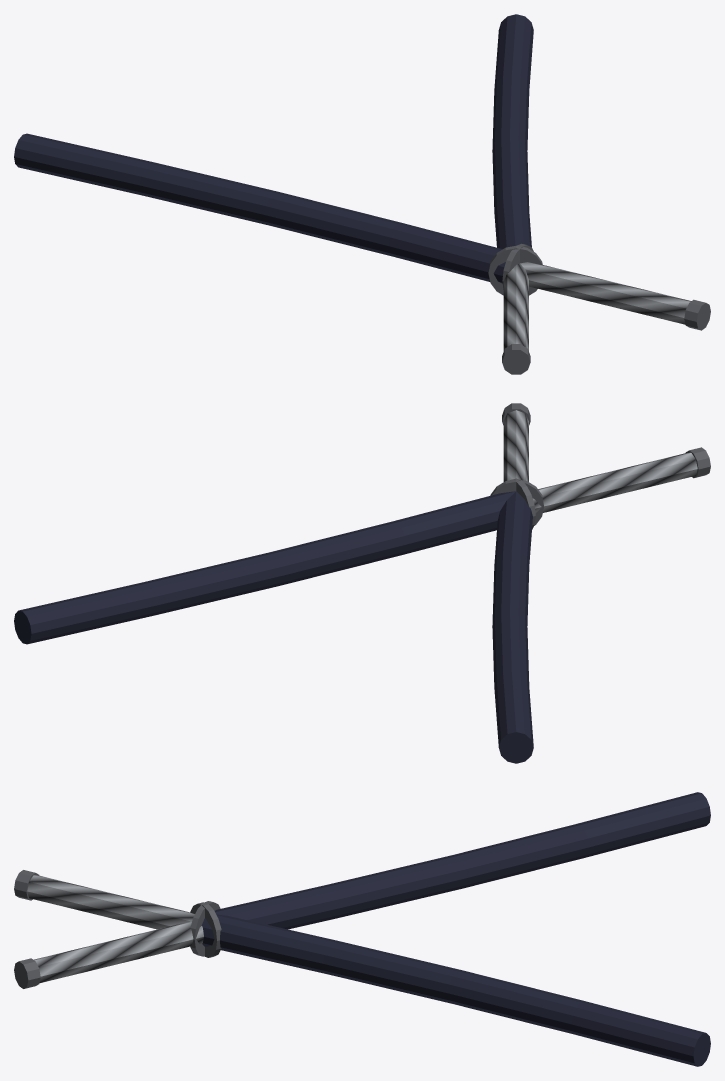
The model's file is primm_swords.glb.
The picture shows the model from 3 angles, top to bottom: view 1: azimuth 30°, elevation 25°; view 2: azimuth 150°, elevation 25°; view 3: azimuth 270°, elevation 25°; orthographic projection.
Parts seen in each view (by area): view 1: geometry_0; view 2: geometry_0; view 3: geometry_0.
Boxes of the visible parts, x1,y1,x2,y2 form: geometry_0: (14, 14, 710, 374); geometry_0: (14, 403, 710, 763); geometry_0: (14, 792, 710, 1066).
Size of the model in its own units: 0.7541 by 0.07 by 0.8756.
